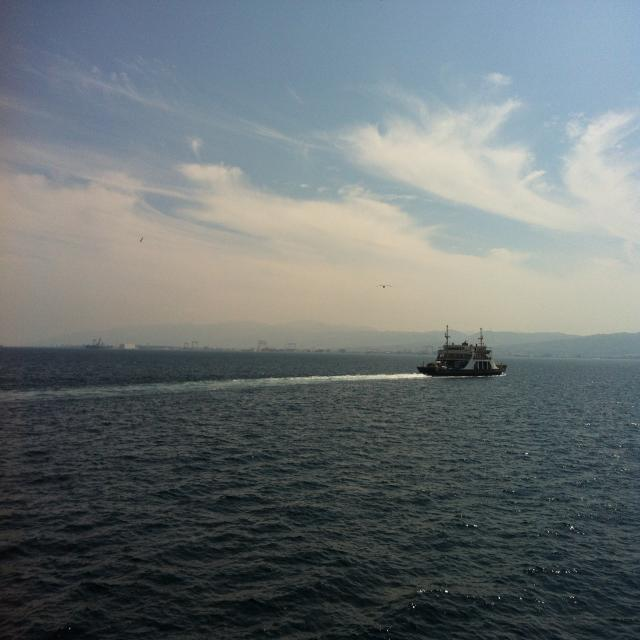houseboat: (420, 326, 510, 380)
